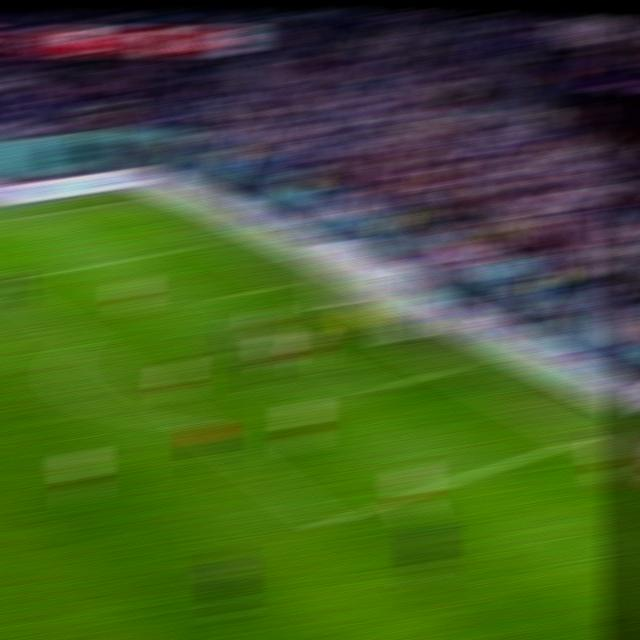bigarea_bottom_inner: (312, 514, 345, 532)
bigarea_bottom_outter: (564, 433, 596, 447)
bigarea_top_outter: (192, 241, 223, 248)
bottom_arc_area_intersection: (180, 417, 210, 430)
corner: (113, 200, 140, 205)
smallarea_bottom_inner: (361, 386, 388, 394)
smallarea_bottom_outter: (432, 366, 460, 374)
smallarea_top_inner: (209, 295, 233, 303)
smallarea_top_outter: (272, 281, 298, 287)
top_arc_area_intersection: (68, 333, 95, 347)
